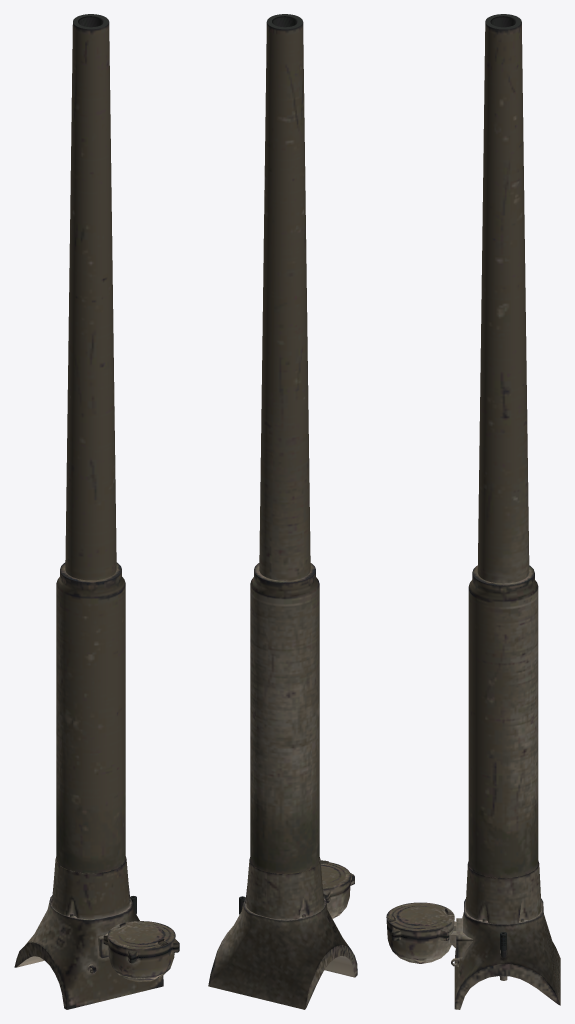
Rendered from Gun_04.glb.
The picture shows the model from 3 angles, left to right: view 1: azimuth 30°, elevation 25°; view 2: azimuth 150°, elevation 25°; view 3: azimuth 270°, elevation 25°; orthographic projection.
Visible parts, largest first — view 1: set_0_group_0; view 2: set_0_group_0; view 3: set_0_group_0.
Part boxes in pixels (x1,y1,x2,y2): set_0_group_0: (14,14,179,1009); set_0_group_0: (208,14,357,1009); set_0_group_0: (386,14,560,1009).
Bounding box in the file's own units: 0.57 × 5.4 × 0.8837.
Materials: 1 (1 with a texture image).
